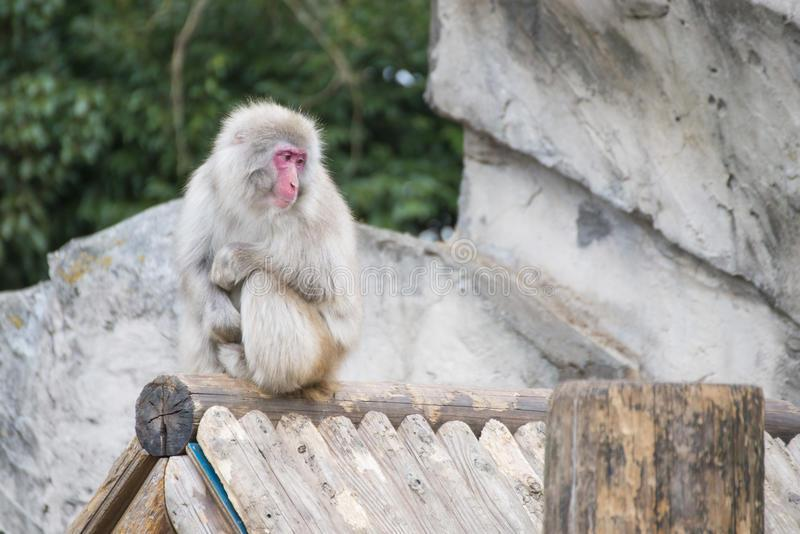monkey: (172, 102, 366, 401)
